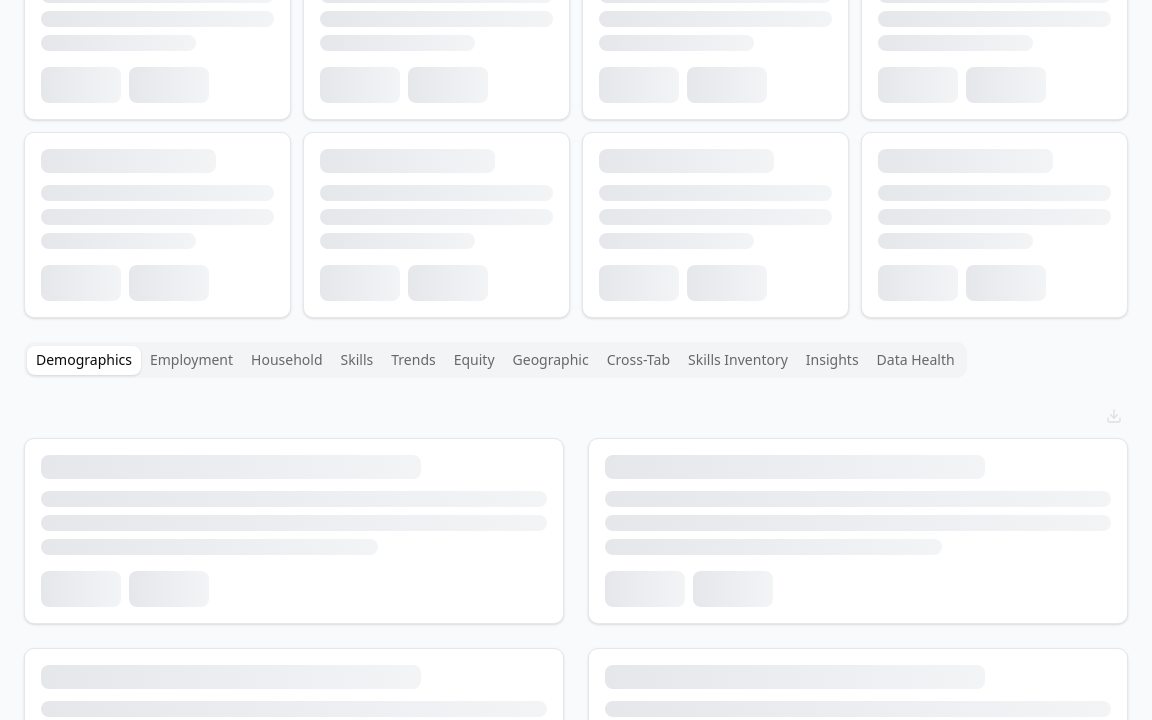
SurveyAnalyticsPage — Data Health tab (Story 12-6) › surfaces a registry-totals failure instead of rendering a blank tab (review H2)
(page scrolled)
Step 1. Click the tab "Data Health" → (916, 360), box [868, 346, 964, 374]
(page scrolled)
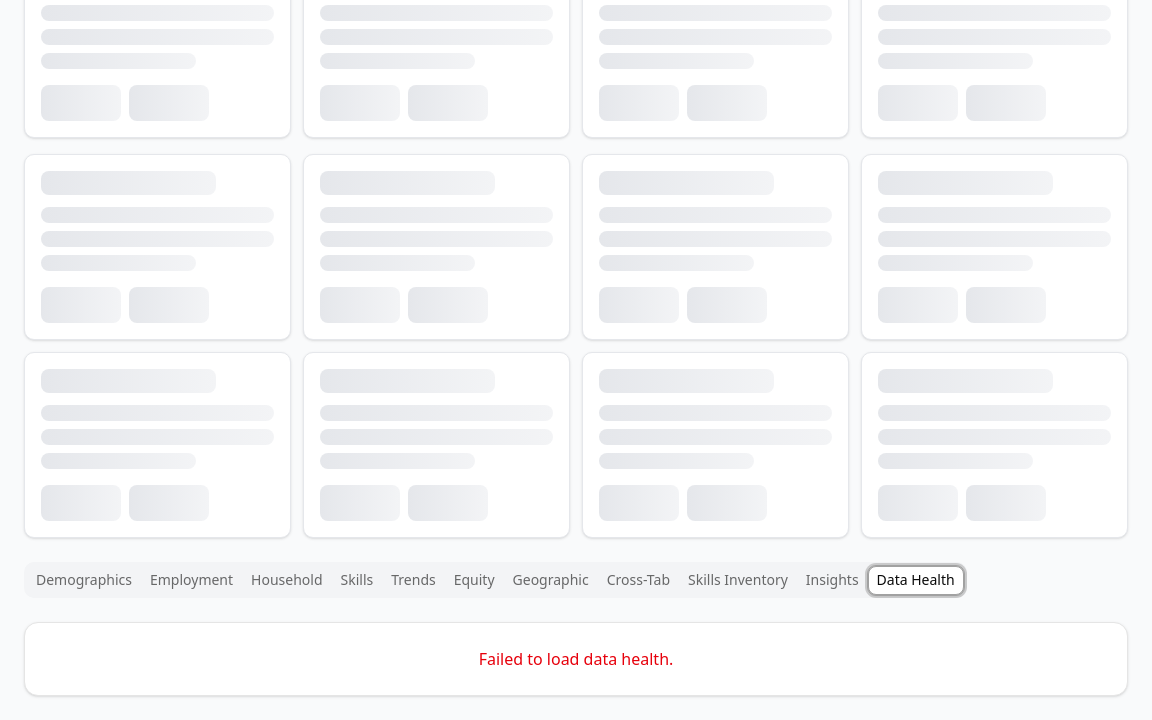
Now the text "Failed to load data health." is shown, box [24, 622, 1128, 696]
